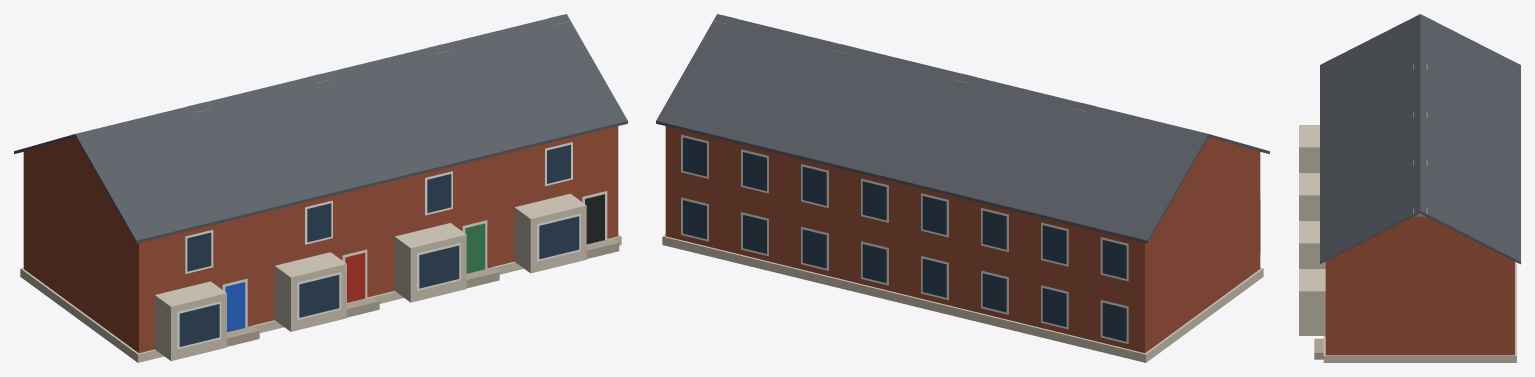
File: maisons_en_bande.glb
The picture shows the model from 3 angles, left to right: view 1: azimuth 30°, elevation 25°; view 2: azimuth 150°, elevation 25°; view 3: azimuth 270°, elevation 25°; orthographic projection. The views are drawn at different scales.
Parts seen in each view (by area): view 1: maisons_en_bande; view 2: maisons_en_bande; view 3: maisons_en_bande.
Part boxes in pixels (x1=…): maisons_en_bande: x1=14, y1=14, x2=627, y2=362; maisons_en_bande: x1=656, y1=14, x2=1269, y2=362; maisons_en_bande: x1=1299, y1=14, x2=1520, y2=362.
Size of the model in its own units: 24.6 by 8.94 by 11.75.
1 material, 1 textured.
